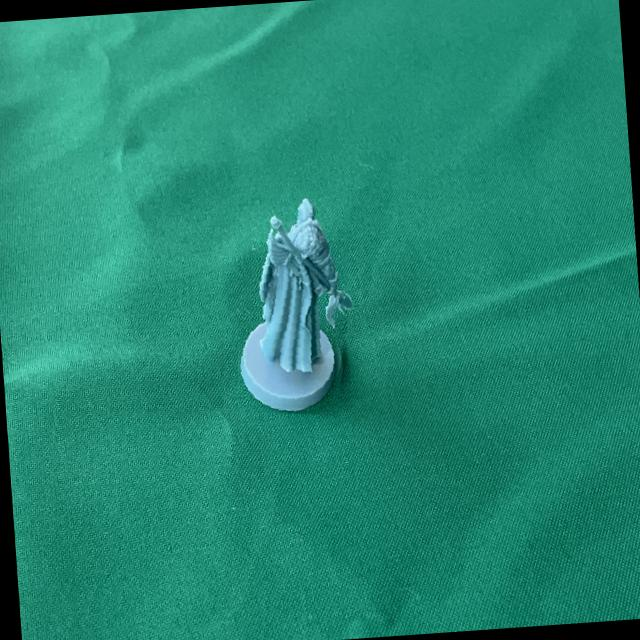isis_follower: (226, 184, 359, 420)
